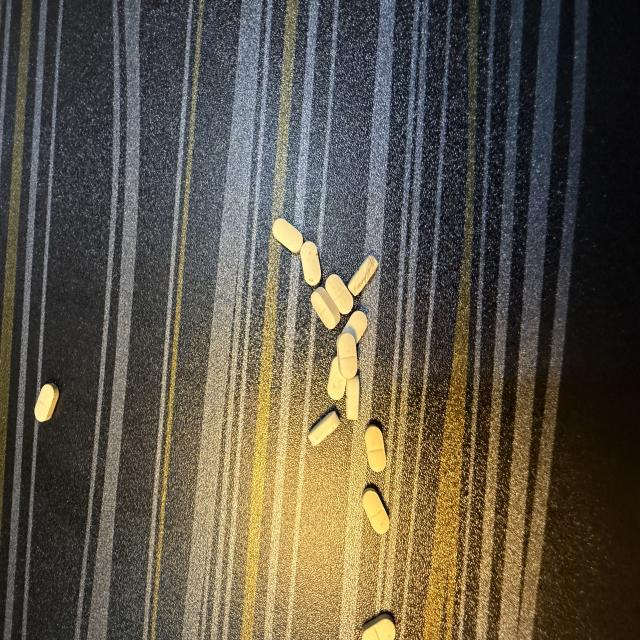pill: (362, 487, 389, 534), (311, 287, 340, 329), (348, 256, 378, 295), (325, 275, 353, 314), (308, 411, 339, 446), (273, 218, 303, 253), (300, 241, 321, 286), (365, 426, 386, 471), (337, 333, 357, 379), (35, 384, 58, 422), (362, 614, 395, 639), (328, 357, 346, 400), (343, 311, 367, 343), (346, 375, 359, 420)
